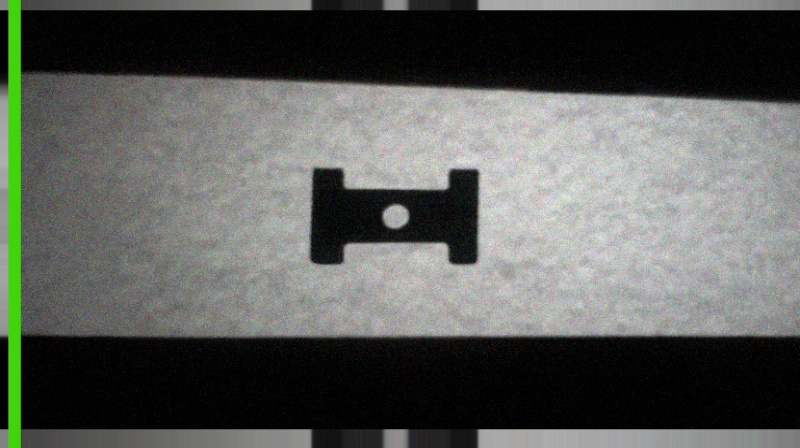O002: (304, 165, 483, 269)
